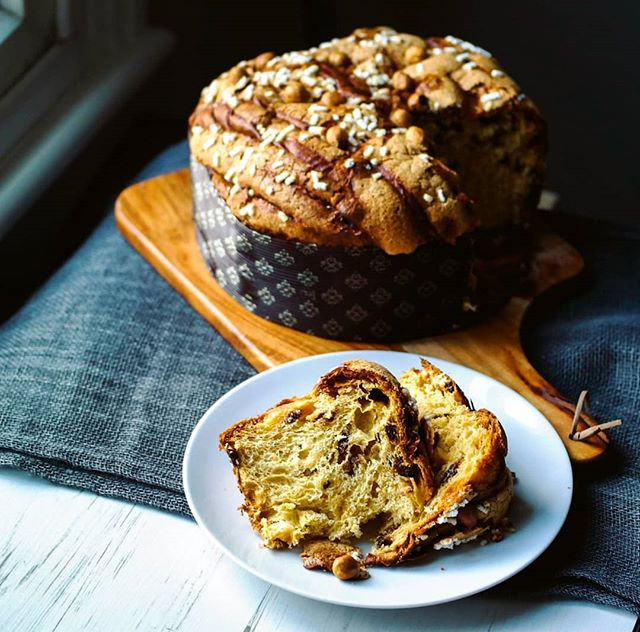slice of bread: (225, 371, 527, 586)
